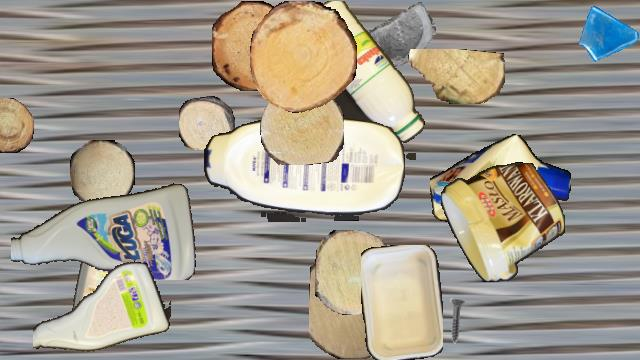glass: (364, 1, 436, 73), (577, 1, 640, 65)
metal: (374, 247, 434, 307), (432, 297, 480, 345)
plastic: (204, 118, 404, 222), (296, 1, 426, 159), (11, 176, 199, 280), (440, 162, 564, 282), (33, 257, 171, 359), (430, 133, 570, 229), (361, 245, 443, 359), (67, 217, 133, 339)
wood: (250, 1, 356, 113), (309, 247, 397, 359), (212, 1, 294, 91), (315, 230, 395, 314), (260, 84, 344, 164), (407, 49, 505, 103), (70, 140, 134, 204), (179, 96, 235, 150), (0, 98, 33, 152)
